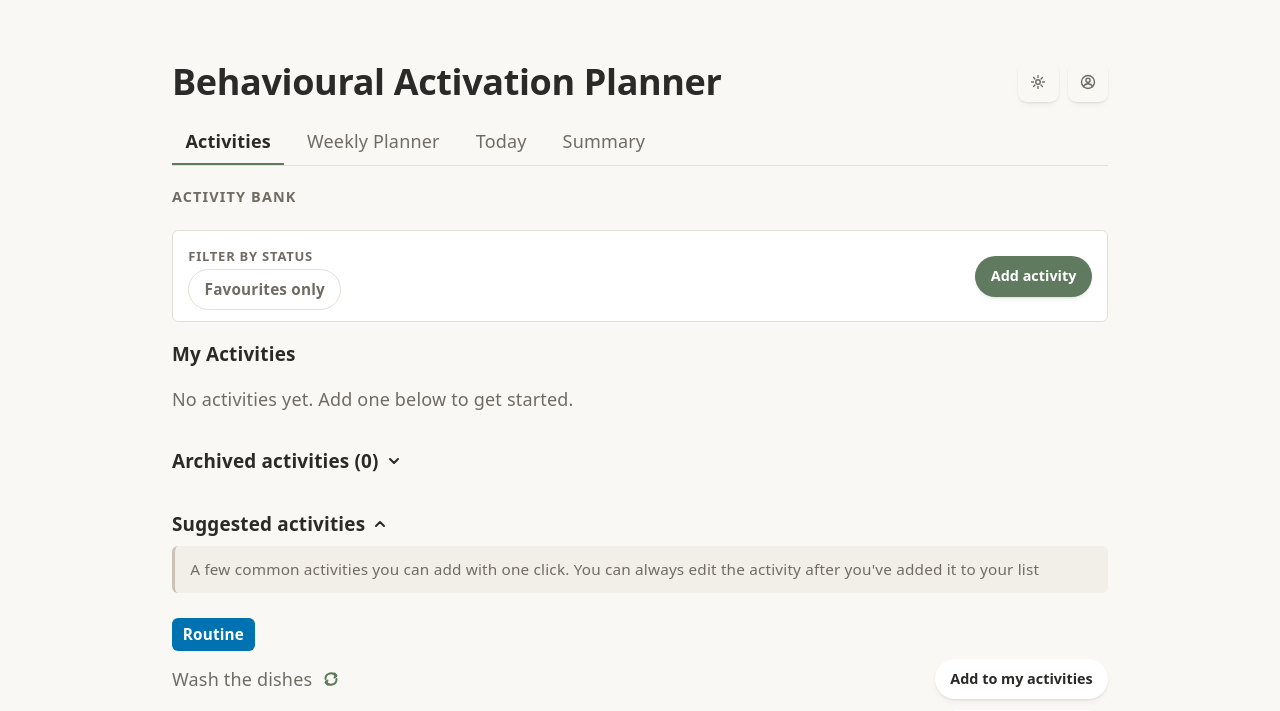
it: App › FRONTEND-029-AC-07: explicit logout shows no session-expired notice › renders LoginPage with no expired notice after logging out on purpose
Click the button named "Account" at (1088, 82), box [1068,62,1108,102]
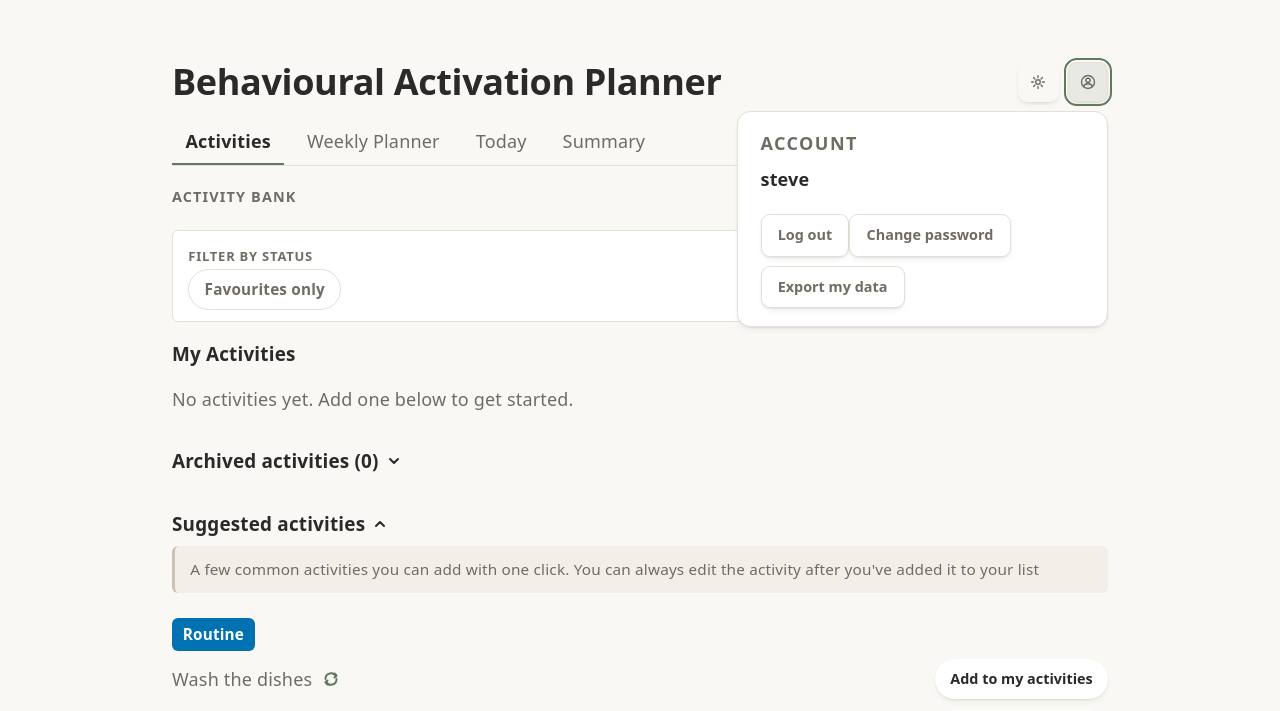
Click the button "Log out" at (805, 235), box [760,214,849,257]
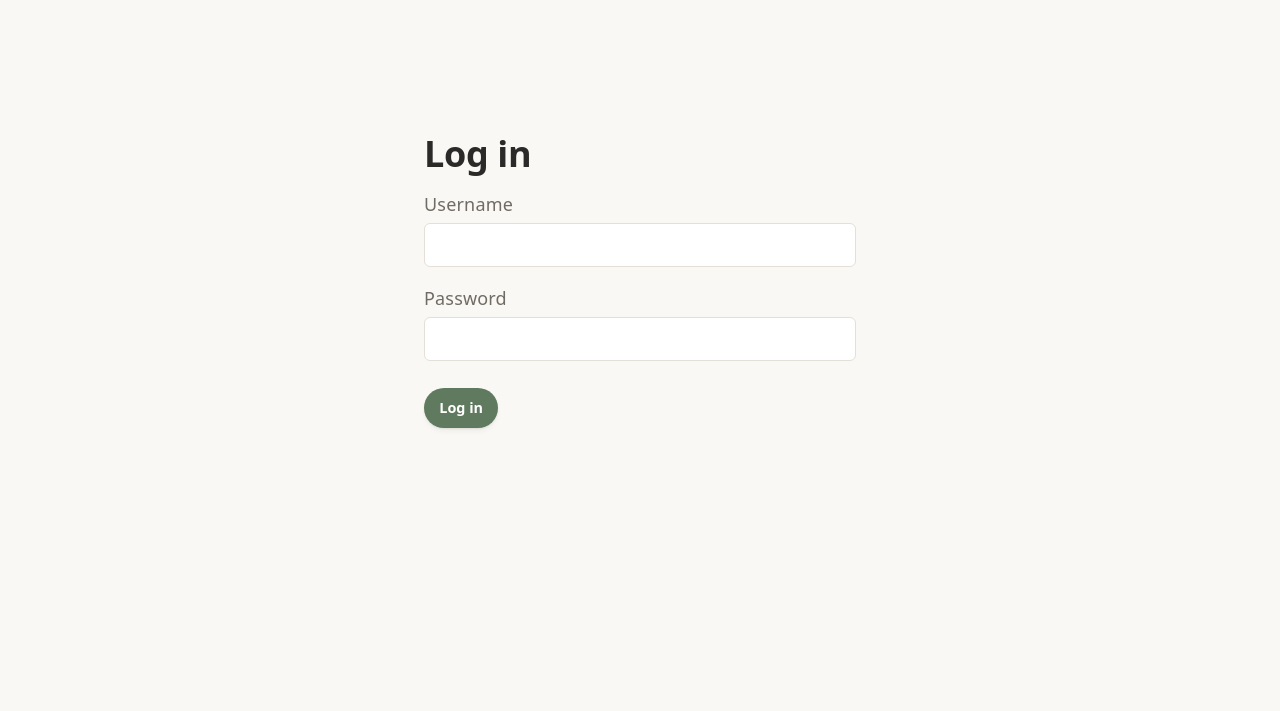
Expected: the heading "Log in" is shown, [424,129,531,178]
